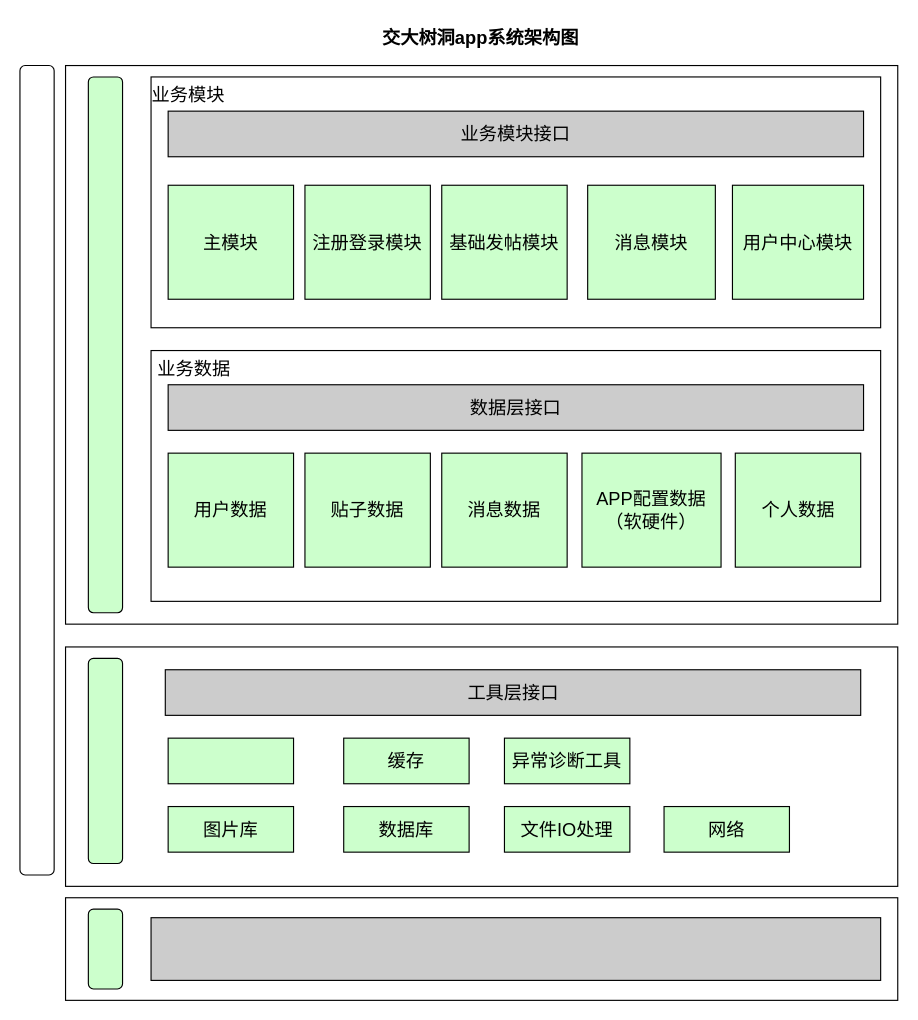
This 918x1020 diagram has some shape labels left out. Here are the shapes that lost their labels. From the top down, the centre of each, then its label:
point (105, 344): 业务层
point (36, 469): UI
point (105, 760): 工具层
point (230, 760): 日志
point (105, 948): SDK层
point (515, 948): 系统SDK
